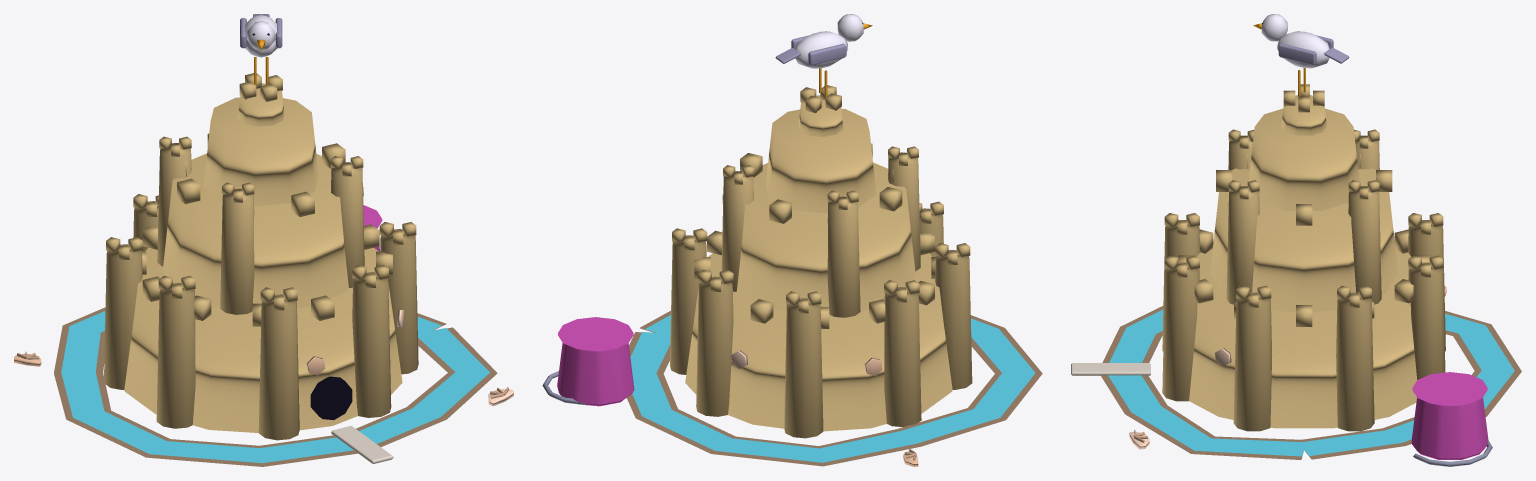
Rendered from sandcastle_big.glb.
3 renders of one model, left to right at view 1: azimuth 30°, elevation 25°; view 2: azimuth 150°, elevation 25°; view 3: azimuth 270°, elevation 25°, orthographic. The views are drawn at different scales.
Parts seen in each view (by area): view 1: Castle; view 2: Castle; view 3: Castle.
Boxes of the visible parts, x1,y1,x2,y2 form: Castle: (14,14,513,466); Castle: (542,14,1042,466); Castle: (1071,14,1521,466).
Bounding box in the file's own units: 1.88 × 1.64 × 1.92.
